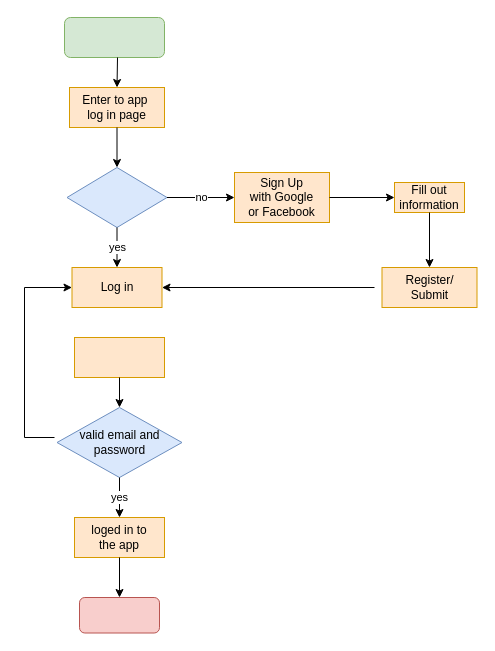
This 495x651 diagram has some shape labels left out. Each missing label, with the centre of its shape:
"End" goes at pixel 119 614.
"enter e-mail and password" goes at pixel 119 357.
"have an account" goes at pixel 116 197.
"Start" goes at pixel 114 37.
